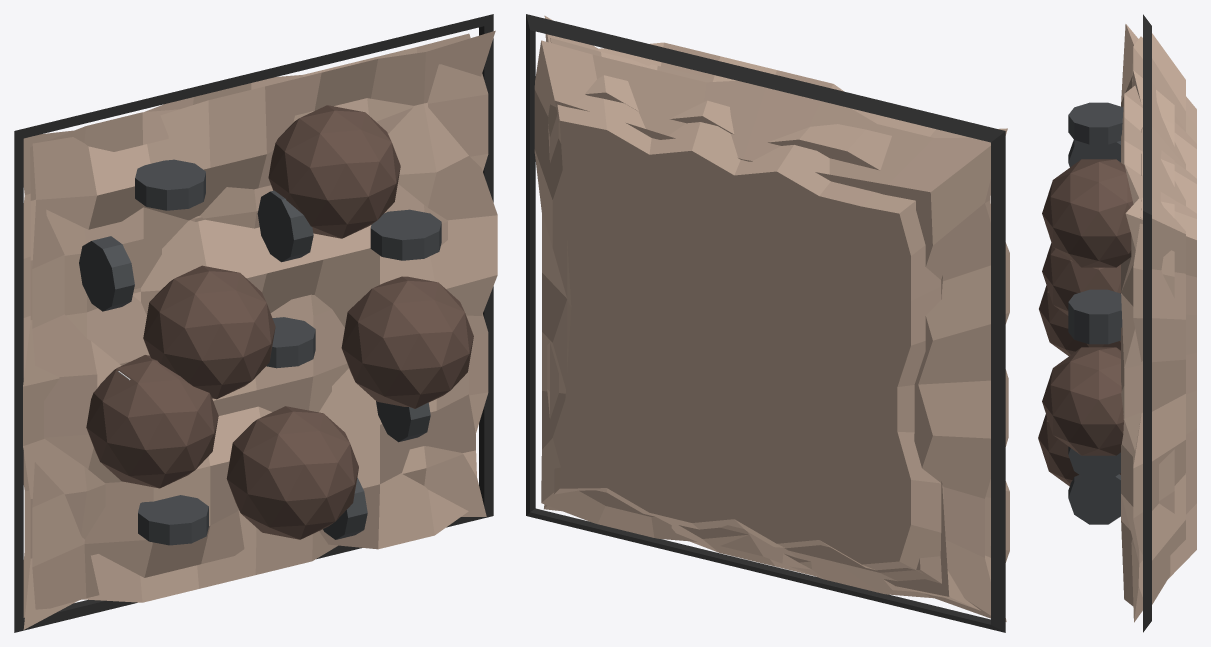
The model's file is RockSmash.fbx.
3 views of the same model, side by side, from view 1: azimuth 30°, elevation 25°; view 2: azimuth 150°, elevation 25°; view 3: azimuth 270°, elevation 25° (orthographic). The views are drawn at different scales.
Visible parts, largest first — view 1: Cube, Cube.001, Cube.002, Icosphere.001, Icosphere.002, Icosphere.003, Icosphere, Icosphere.004, Cube.003, Cylinder.008, Cylinder.001, Cylinder.002 (+5 smaller); view 2: Cube, Cube.003, Cube.002, Cube.001; view 3: Cube, Cube.003, Icosphere.003, Icosphere.002, Cube.001, Cube.002, Icosphere, Cylinder.007, Cylinder.002, Cylinder.001, Icosphere.004, Icosphere.001 (+3 smaller).
Boxes of the visible parts, left/top/right/bottom form: Cube: left=32, top=30, right=497, bottom=609; Cube.001: left=23, top=50, right=488, bottom=629; Cube.002: left=14, top=14, right=493, bottom=632; Icosphere.001: left=226, top=406, right=358, bottom=539; Icosphere.002: left=341, top=276, right=473, bottom=408; Icosphere.003: left=268, top=105, right=400, bottom=238; Icosphere: left=143, top=265, right=275, bottom=399; Icosphere.004: left=86, top=355, right=218, bottom=488; Cube.003: left=23, top=33, right=470, bottom=617; Cylinder.008: left=79, top=236, right=134, bottom=311; Cylinder.001: left=370, top=209, right=441, bottom=260; Cylinder.002: left=135, top=159, right=205, bottom=210; Cube: left=544, top=15, right=1009, bottom=573; Cube.003: left=534, top=40, right=990, bottom=618; Cube.002: left=526, top=14, right=1005, bottom=632; Cube.001: left=544, top=38, right=1008, bottom=621; Cube: left=1121, top=24, right=1196, bottom=605; Cube.003: left=1142, top=33, right=1185, bottom=604; Icosphere.003: left=1042, top=159, right=1132, bottom=267; Icosphere.002: left=1042, top=347, right=1123, bottom=455; Cube.001: left=1131, top=36, right=1174, bottom=622; Cube.002: left=1143, top=14, right=1151, bottom=632; Icosphere: left=1042, top=243, right=1120, bottom=315; Cylinder.007: left=1068, top=474, right=1120, bottom=524; Cylinder.002: left=1068, top=102, right=1123, bottom=144; Cylinder.001: left=1068, top=289, right=1122, bottom=331; Icosphere.004: left=1039, top=285, right=1120, bottom=355; Icosphere.001: left=1038, top=414, right=1120, bottom=486.
Size of the model in its own units: 10200 by 10200 by 3481.
